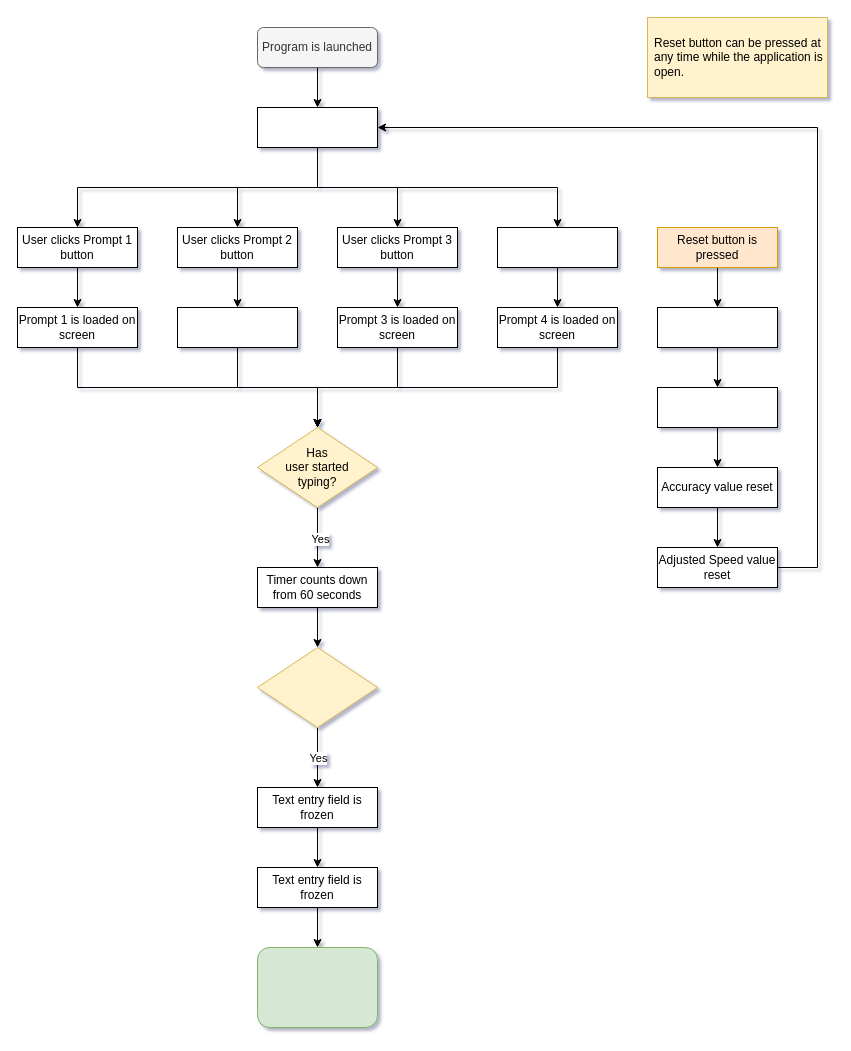
Some shapes in this 851 by 1051 pixel diagram are drawn without their labels. Here are the shapes that lost their labels. From the top down, the centre of each, then its label:
At point 317,127: "GUI elements loaded with blank fields".
At point 557,247: "User clicks Prompt 4 button".
At point 237,327: "Prompt 2 is loaded on screen".
At point 717,327: "Timer is reset to 60 seconds".
At point 717,407: "Typing speed value reset".
At point 317,687: "Has countdown hit zero?".
At point 317,987: "User's typing speed, accuracy and adjusted speed are displayed".
